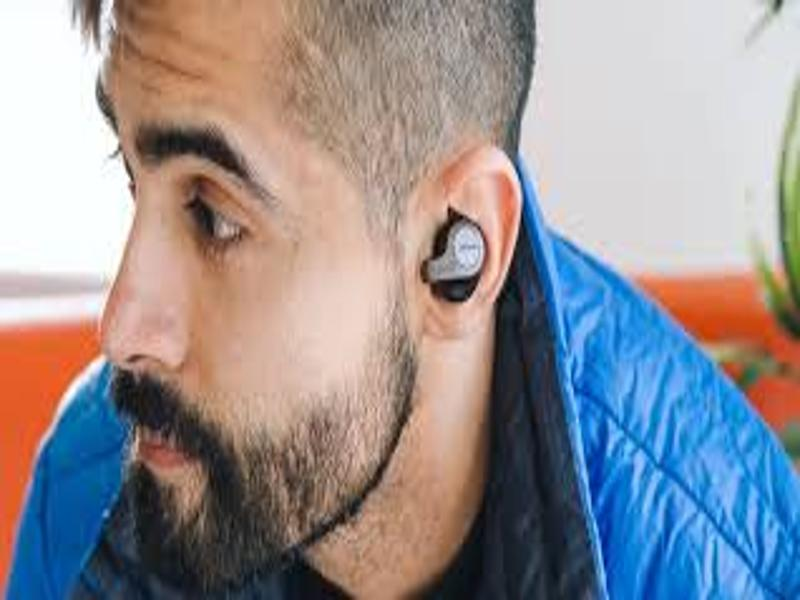headphone: (418, 215, 491, 302)
